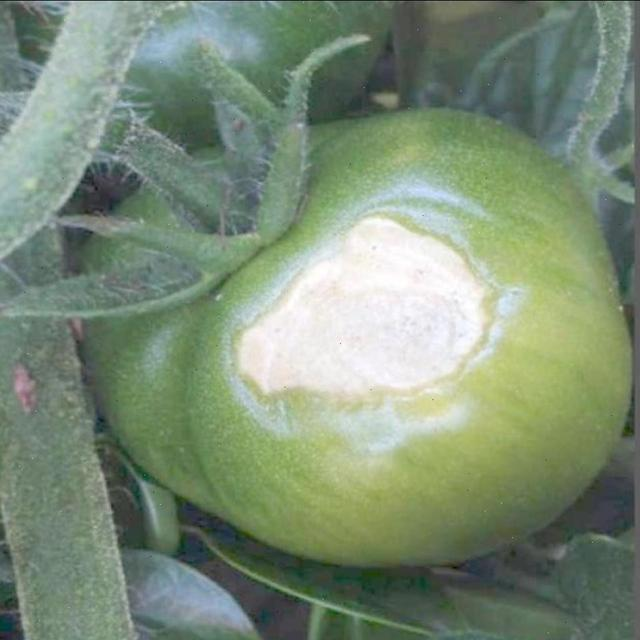Sunscald Fruit: (152, 131, 330, 292)
